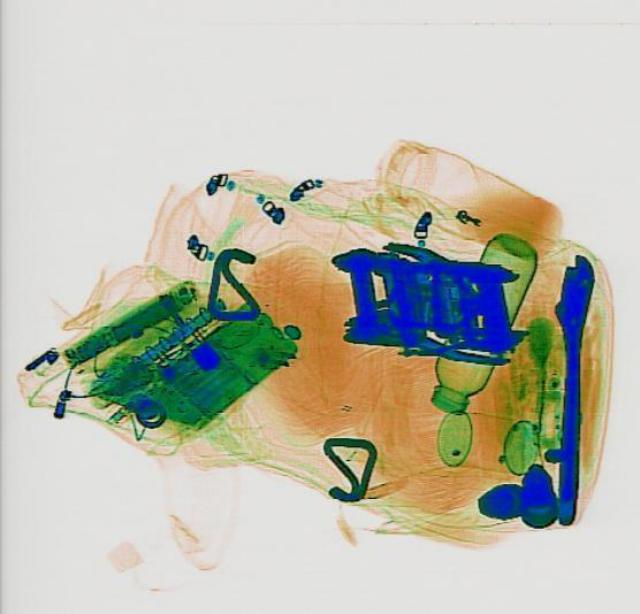Wrench: (544, 253, 594, 523)
